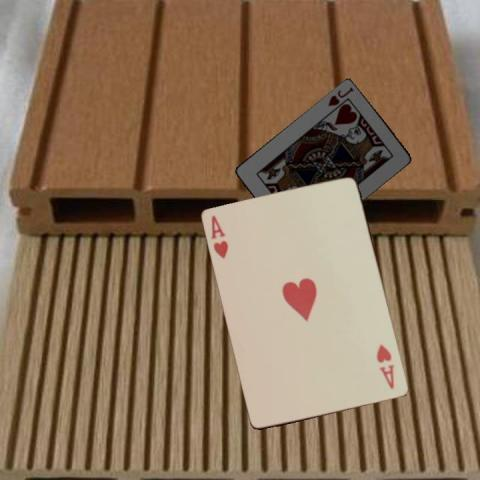Ah: (374, 341, 397, 391), (208, 213, 230, 260)
Jh: (326, 84, 356, 107)
